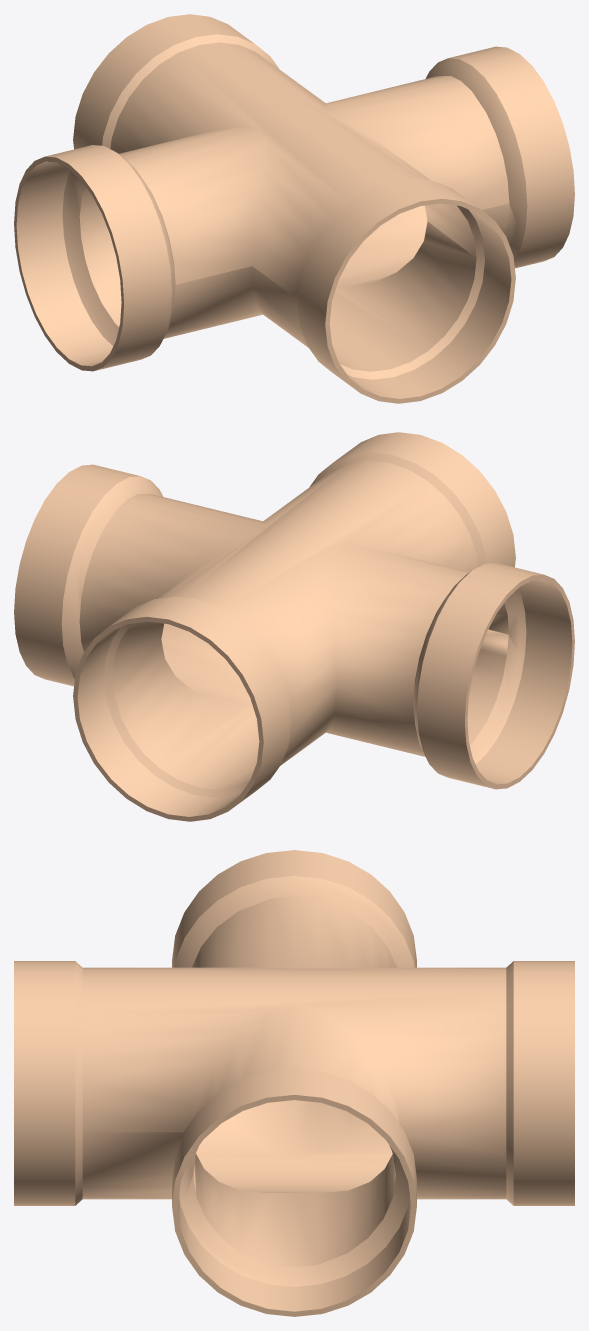
Rendered from sizix.glb.
The picture shows the model from 3 angles, top to bottom: view 1: azimuth 30°, elevation 25°; view 2: azimuth 150°, elevation 25°; view 3: azimuth 270°, elevation 25°; orthographic projection. The views are drawn at different scales.
Parts seen in each view (by area): view 1: ???; view 2: ???; view 3: ???.
Part boxes in pixels (bbox=[...]): ???: bbox=[14, 14, 574, 403]; ???: bbox=[14, 432, 574, 821]; ???: bbox=[14, 850, 574, 1316].
Size of the model in its own units: 5000 by 2116 by 4843.
